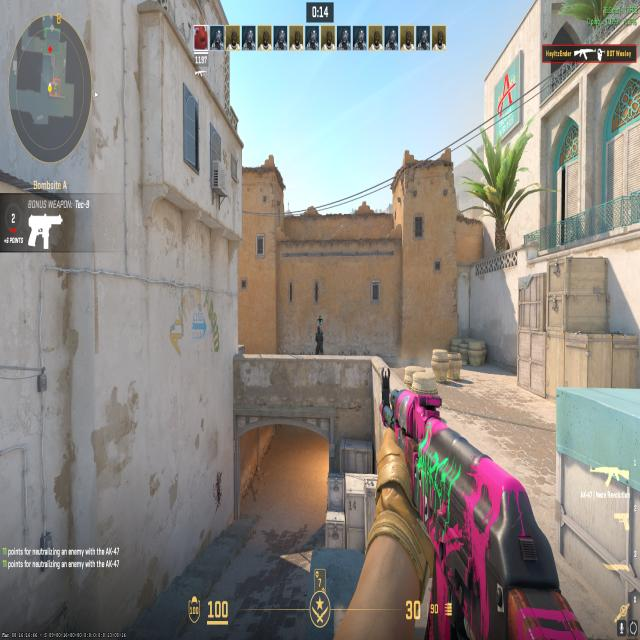ct: (312, 322, 328, 357)
